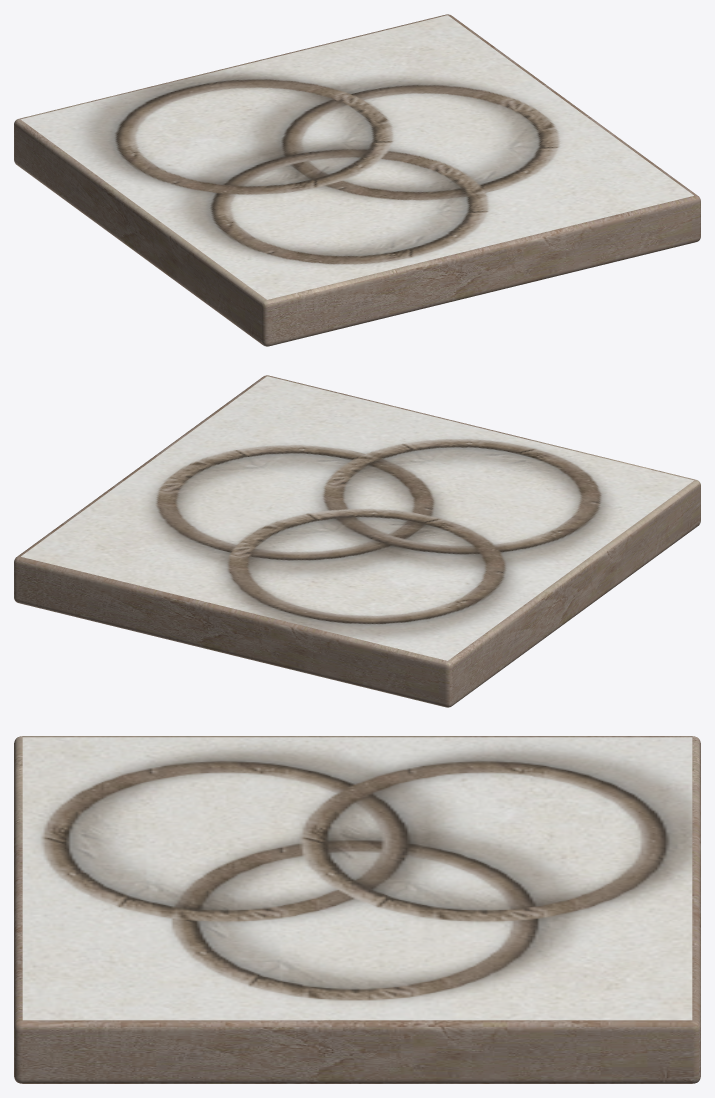
File: tile11.glb
3 renders of one model, top to bottom at view 1: azimuth 30°, elevation 25°; view 2: azimuth 150°, elevation 25°; view 3: azimuth 270°, elevation 25°, orthographic. The views are drawn at different scales.
Parts seen in each view (by area): view 1: Box001; view 2: Box001; view 3: Box001.
Part boxes in pixels (x1=…): Box001: x1=14, y1=14, x2=700, y2=346; Box001: x1=14, y1=375, x2=700, y2=707; Box001: x1=14, y1=736, x2=700, y2=1083.
Bounding box in the file's own units: 0.254 × 0.0254 × 0.254.
Materials: 2 (2 with a texture image).
